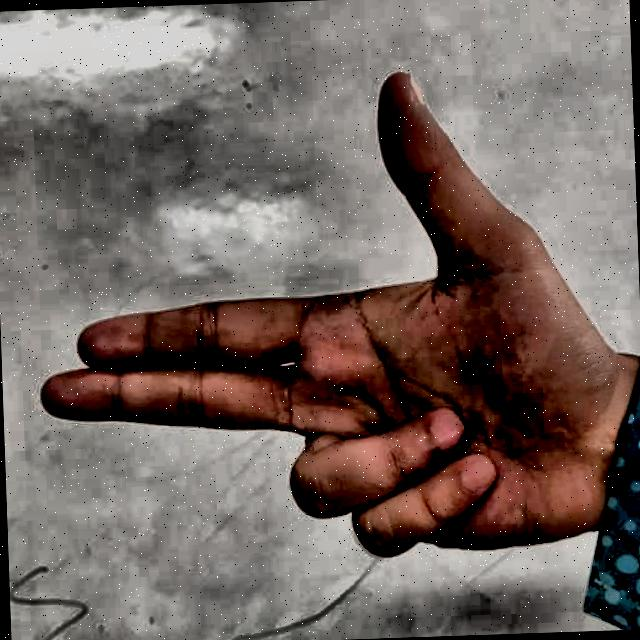Jha: (23, 47, 617, 621)
